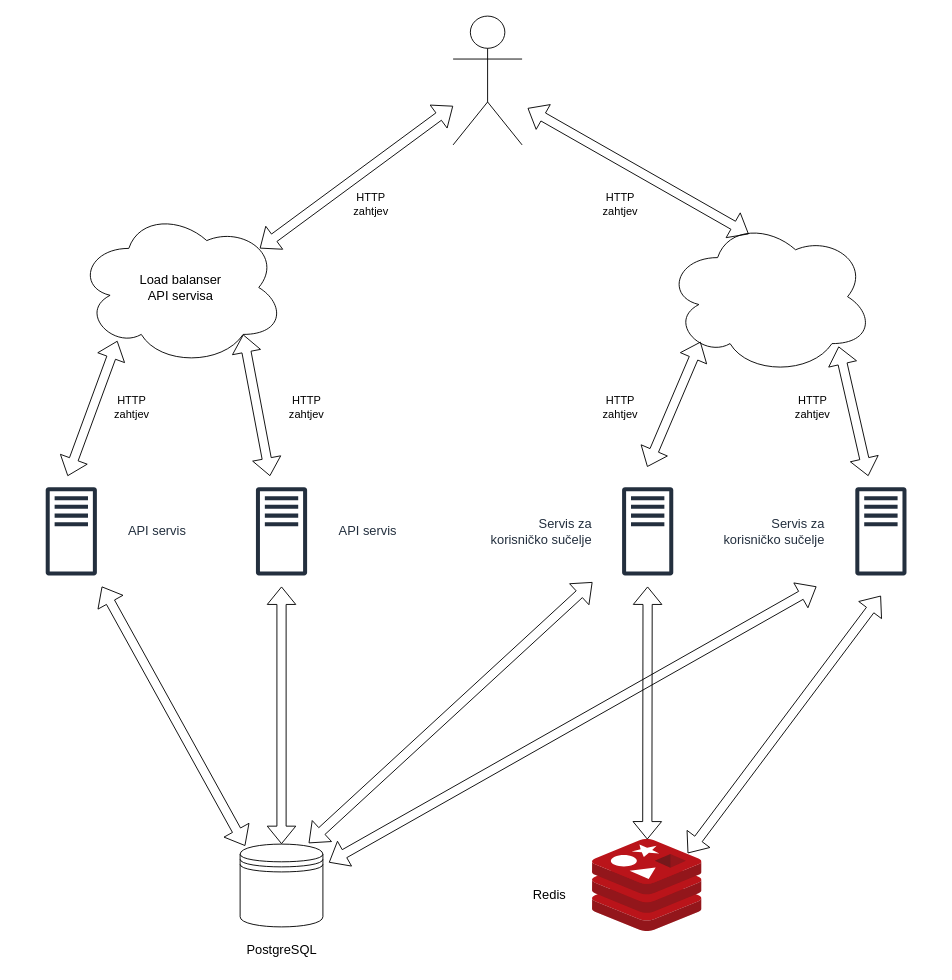
Some shapes in this 952 by 980 pixel diagram are drawn without their labels. Here are the shapes that lost their labels. From the top down, the centre of each, then its label:
At point (487, 80): "Korisnik".
At point (769, 296): "Load balanser servisa za korisničko sučelje".
